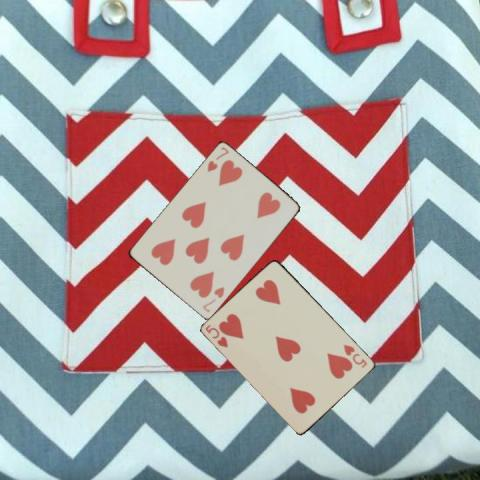5h: (340, 342, 368, 370), (203, 322, 230, 350)
7h: (200, 284, 226, 314), (204, 144, 230, 174)
